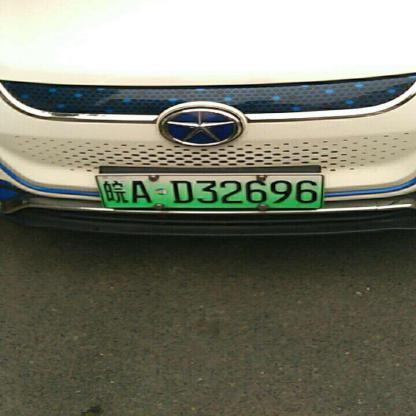lp: (95, 174, 323, 207)
